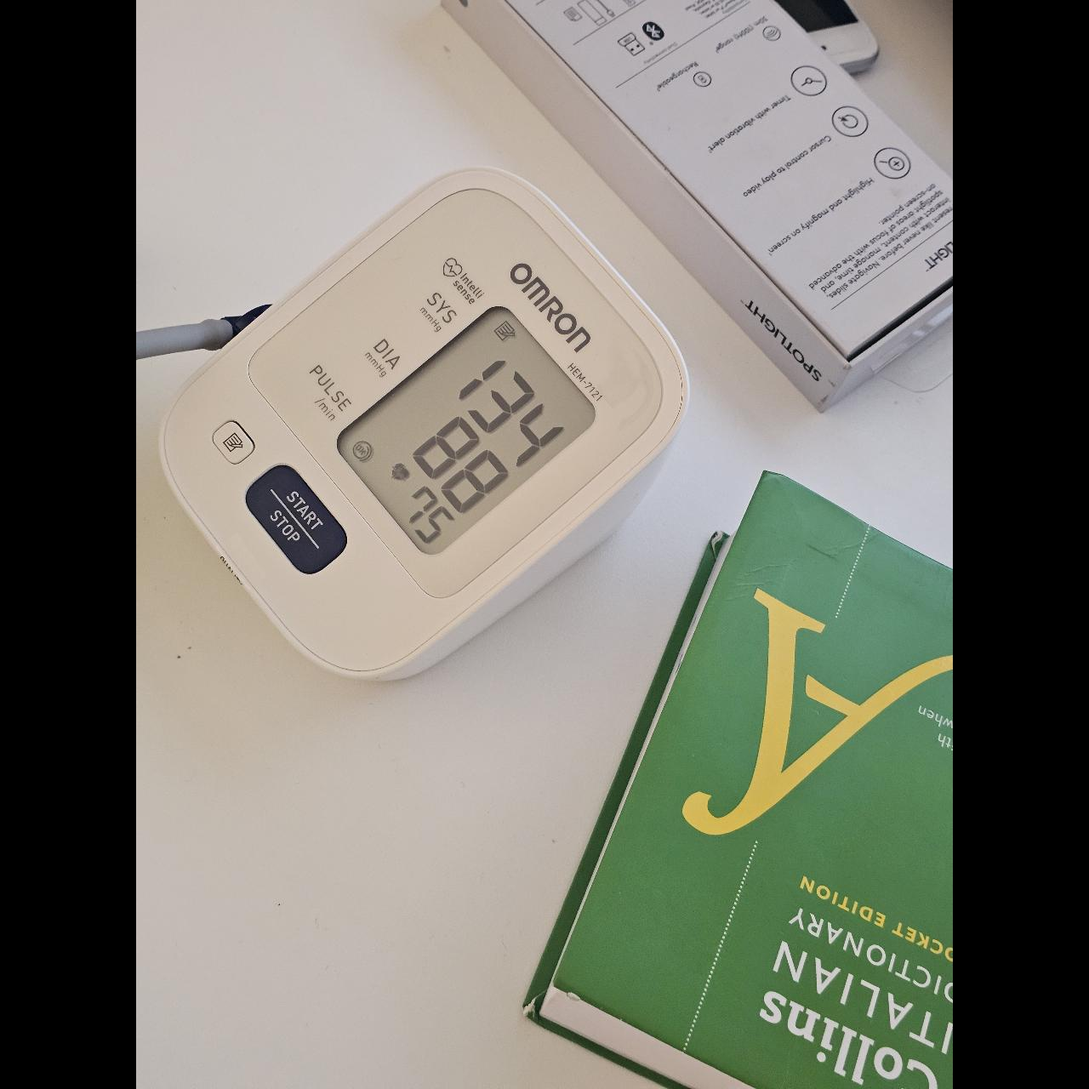lcd display: (334, 305, 596, 554)
